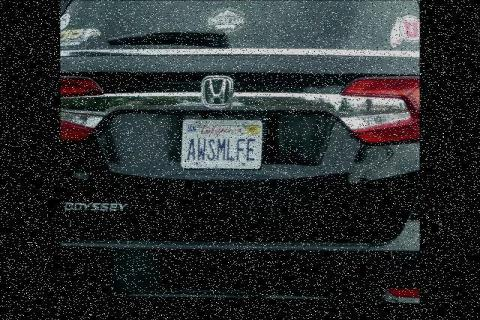LicensePlate: (182, 117, 262, 173)
